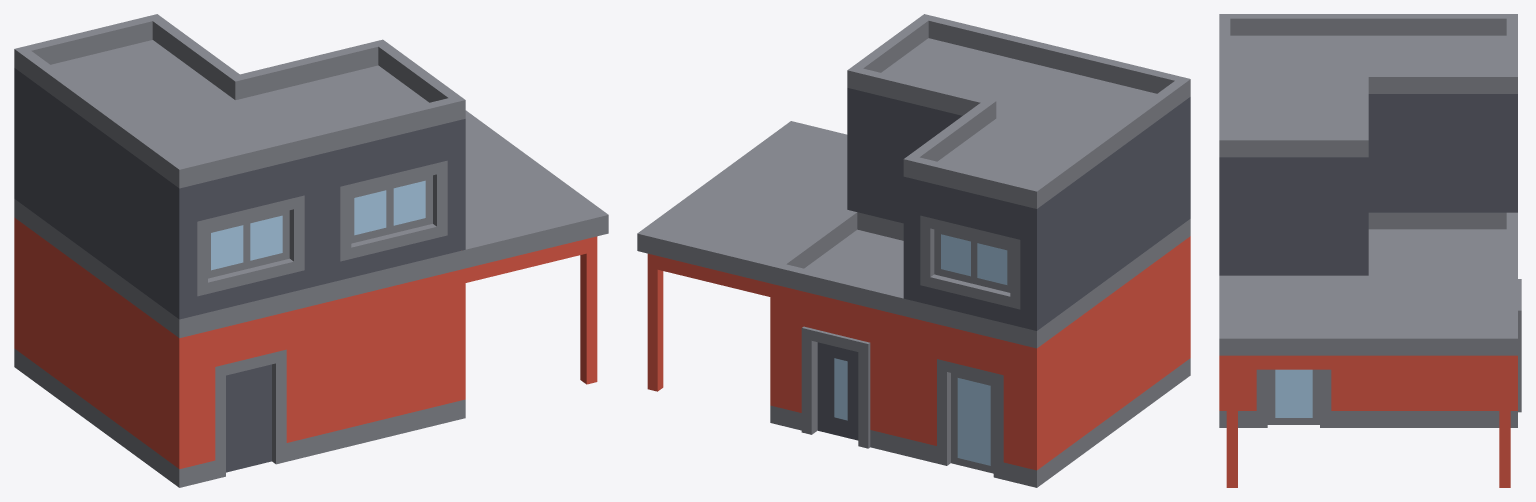
Rendered from house_type19.dae.
3 views of the same model, side by side, from view 1: azimuth 30°, elevation 25°; view 2: azimuth 150°, elevation 25°; view 3: azimuth 270°, elevation 25° (orthographic). The views are drawn at different scales.
Visible parts, largest first — view 1: house_type19; view 2: house_type19; view 3: house_type19.
Part boxes in pixels (x1,y1,x2,y2): house_type19: [14, 14, 608, 487]; house_type19: [637, 14, 1190, 487]; house_type19: [1219, 14, 1521, 487].
Bounding box in the file's own units: 1.2 × 0.85 × 0.81.
